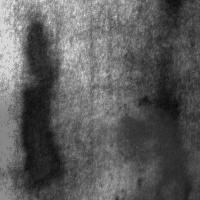patches: (58, 95, 200, 200), (0, 83, 106, 200), (42, 112, 140, 200), (116, 87, 192, 199), (21, 17, 64, 189), (161, 1, 187, 16)
